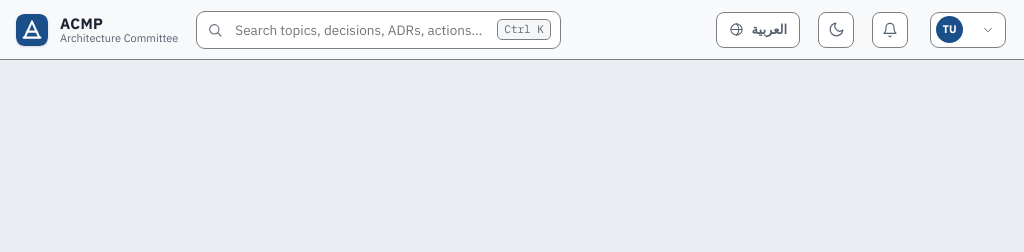
Test: TopBar profile menu › keeps the menu open on keys other than Escape, and names it generically without a display name
Step 1. Click the button with aria-label "account menu" → (968,30), box [930,12,1006,48]
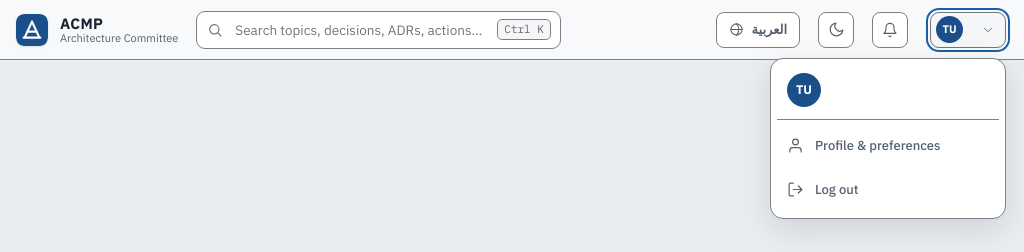
Step 2. Type keys "a"
Now the menu named "Account menu" is shown, box [770,58,1006,218]
Step 3. Press Escape
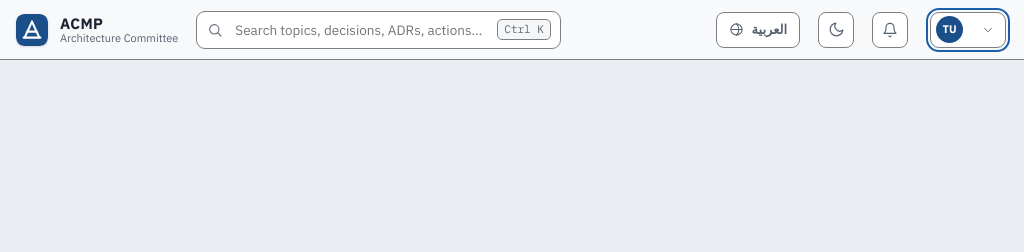
Now the menu is gone
